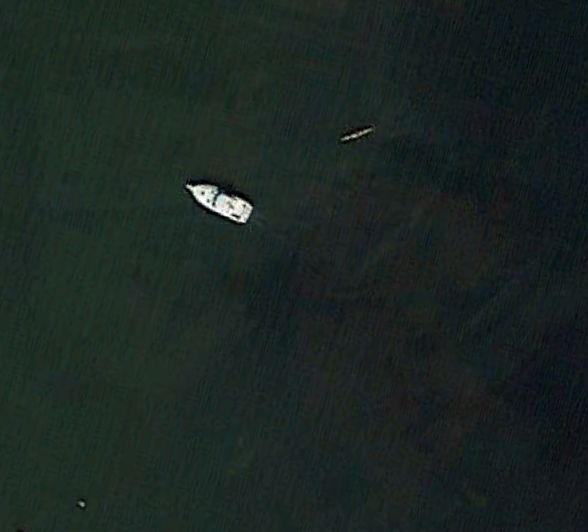boat: (182, 181, 254, 225)
